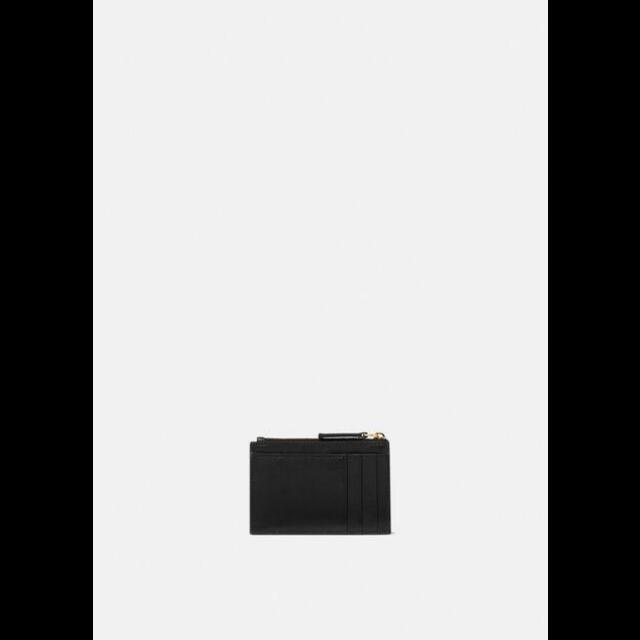wallet: (244, 427, 396, 539)
